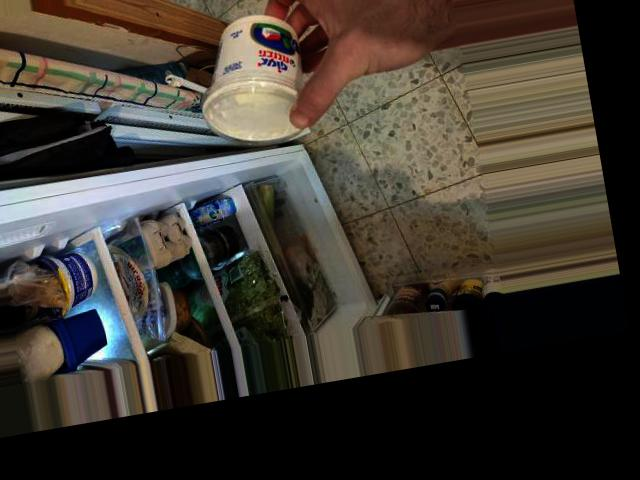cotage: (186, 7, 320, 125)
